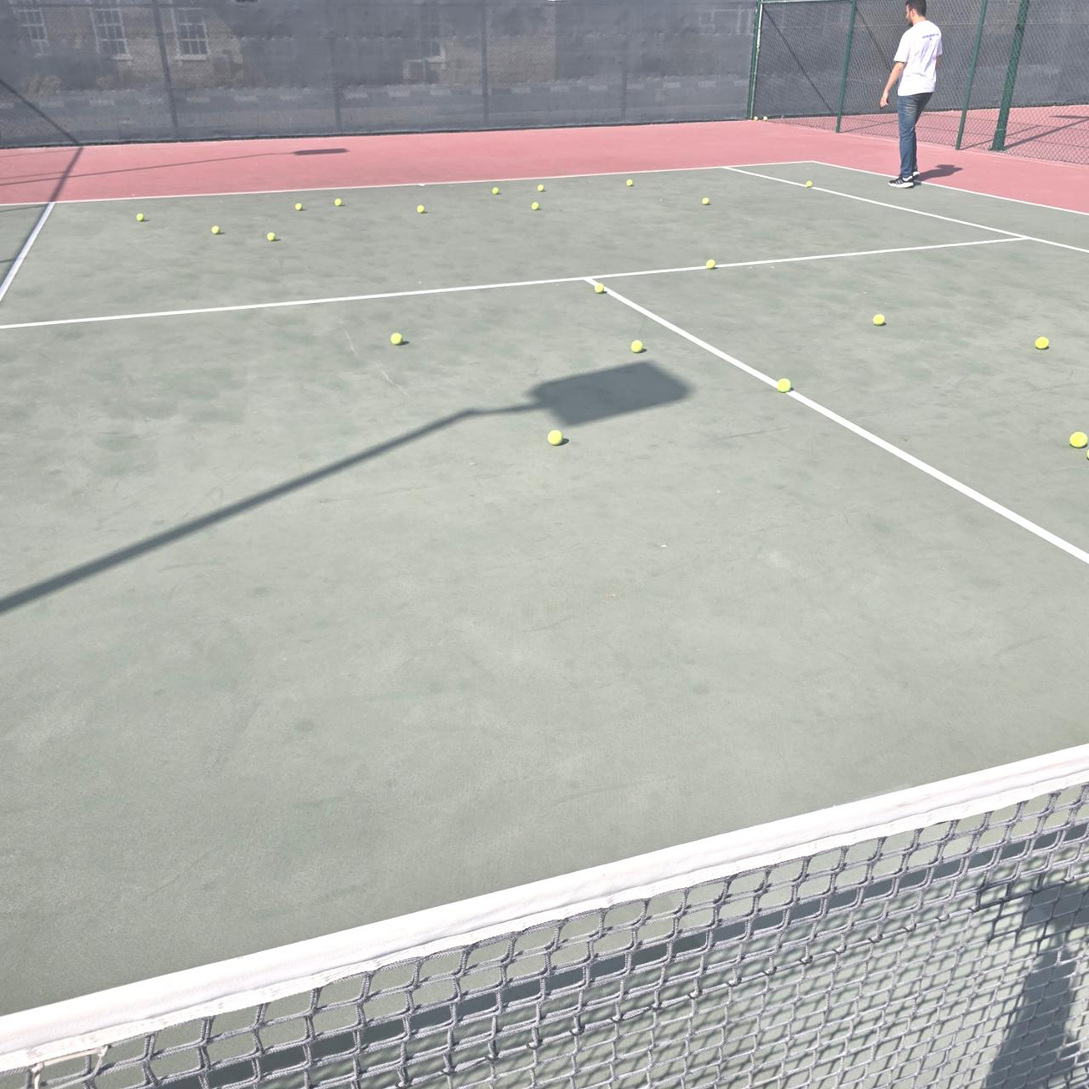tennis-ball: (1069, 430, 1089, 448), (548, 427, 565, 445), (777, 375, 793, 392), (1035, 334, 1052, 349), (631, 338, 646, 353), (390, 330, 405, 345), (873, 311, 887, 326), (594, 284, 605, 293), (706, 260, 716, 269), (267, 232, 276, 242), (136, 212, 145, 222), (211, 225, 220, 234), (702, 197, 710, 205), (531, 202, 539, 210), (417, 205, 425, 213), (492, 187, 499, 195), (335, 199, 342, 207), (295, 203, 302, 211), (538, 184, 544, 192), (806, 181, 812, 188), (626, 180, 632, 186), (763, 116, 768, 120), (754, 116, 758, 120)
